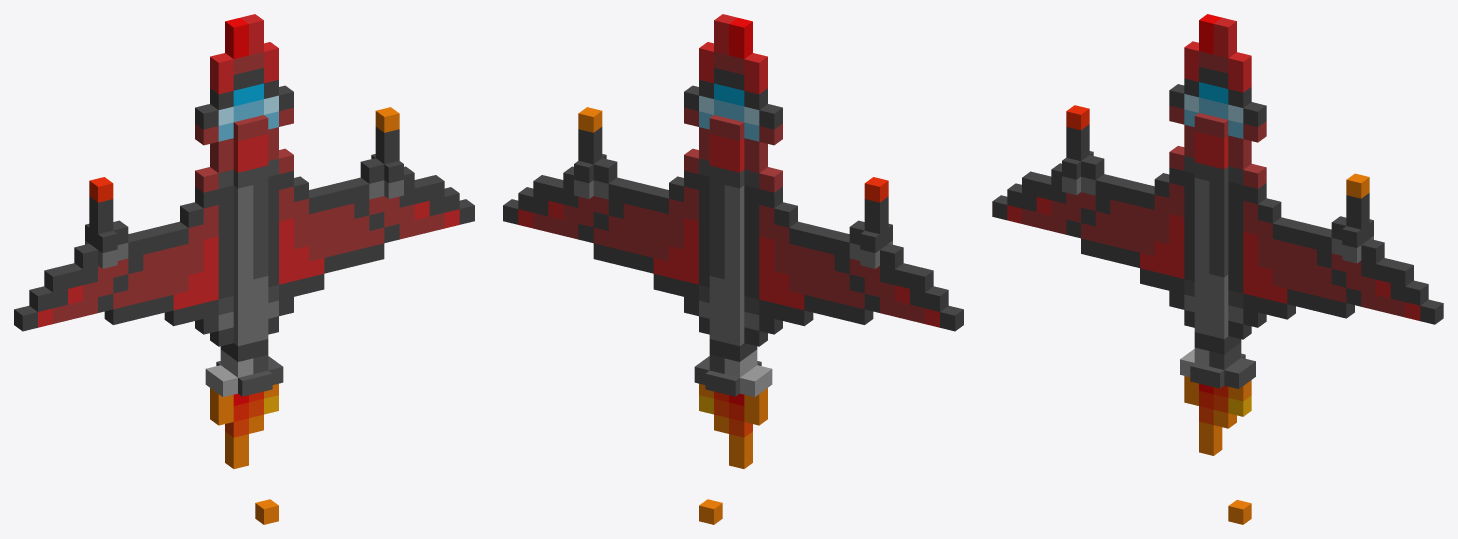
The picture shows the model from 3 angles, left to right: view 1: azimuth 30°, elevation 25°; view 2: azimuth 150°, elevation 25°; view 3: azimuth 330°, elevation 25°; orthographic projection. The views are drawn at different scales.
Parts seen in each view (by area): view 1: generated; view 2: generated; view 3: generated.
Boxes of the visible parts, x1=… form: generated: x1=14, y1=14, x2=474, y2=524; generated: x1=503, y1=14, x2=963, y2=524; generated: x1=992, y1=14, x2=1443, y2=524.
Bounding box in the file's own units: 30 × 32 × 3.
